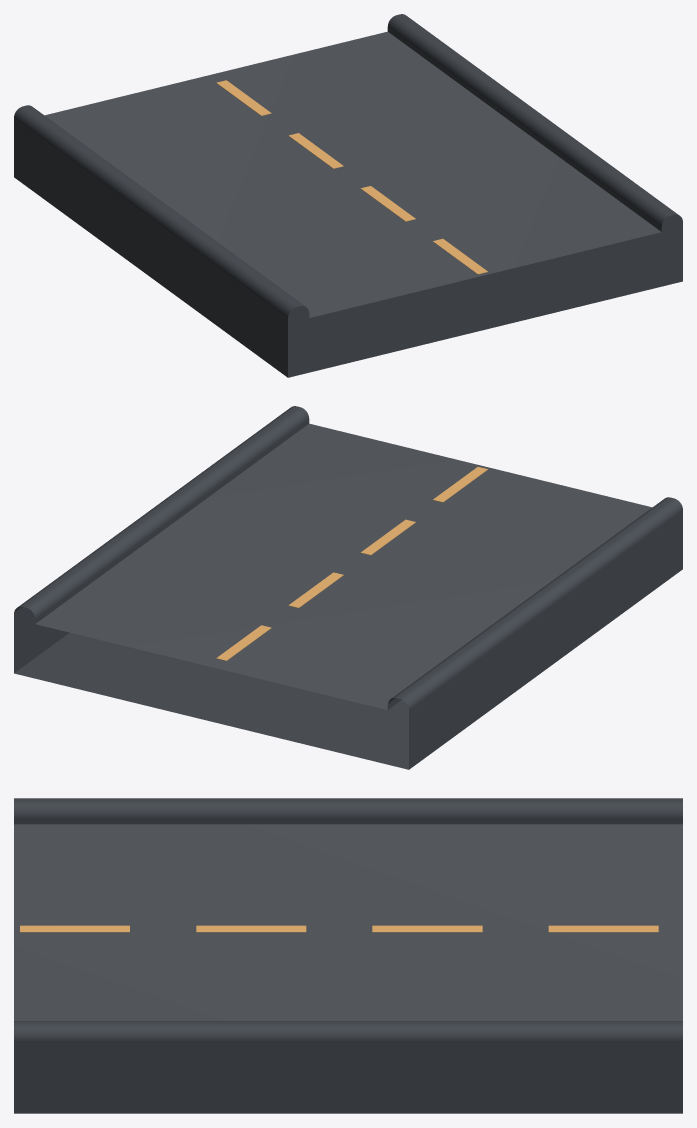
File: Path6Attachment.fbx
3 renders of one model, top to bottom at view 1: azimuth 30°, elevation 25°; view 2: azimuth 150°, elevation 25°; view 3: azimuth 270°, elevation 25°, orthographic. The views are drawn at different scales.
Visible parts, largest first — view 1: Plane.002; view 2: Plane.002; view 3: Plane.002.
Boxes of the visible parts, left/top/right/bottom form: Plane.002: left=14, top=14, right=682, bottom=377; Plane.002: left=14, top=406, right=682, bottom=769; Plane.002: left=14, top=798, right=682, bottom=1113.
Bounding box in the file's own units: 336 × 55.85 × 403.
